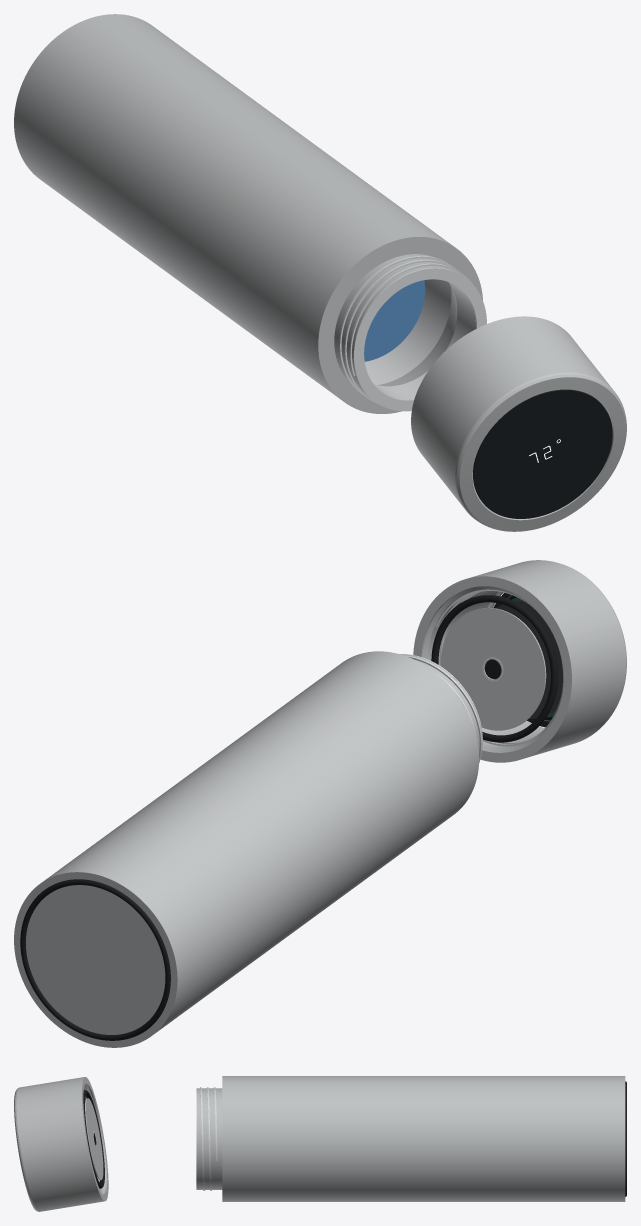
The model's file is AETHR_ONE_OPEN.glb.
The picture shows the model from 3 angles, top to bottom: view 1: azimuth 30°, elevation 25°; view 2: azimuth 150°, elevation 25°; view 3: azimuth 270°, elevation 25°; orthographic projection. The views are drawn at different scales.
Parts seen in each view (by area): view 1: Outer_Shell, Crown_Shell, Crown_Glass, Inner_Vessel, Body_Shoulder, Mouth_Lip, Liquid_Volume, Neck_Sleeve, External_Thread; view 2: Outer_Shell, Bottom_Plate, Crown_Shell, AETHR_Sense_Plate, AntiSlip_Ring, Seal, Charging_Ferrite; view 3: Outer_Shell, Crown_Shell, Neck_Sleeve, AETHR_Sense_Plate, External_Thread, Seal, Bottom_Plate, Body_Shoulder, AntiSlip_Ring.
Boxes of the visible parts, x1=… form: Outer_Shell: x1=15, y1=15, x2=452, y2=398; Crown_Shell: x1=411, y1=316, x2=626, y2=531; Crown_Glass: x1=473, y1=389, x2=612, y2=518; Inner_Vessel: x1=364, y1=279, x2=475, y2=399; Body_Shoulder: x1=317, y1=236, x2=482, y2=413; Mouth_Lip: x1=353, y1=268, x2=486, y2=411; Liquid_Volume: x1=364, y1=280, x2=425, y2=361; Neck_Sleeve: x1=334, y1=254, x2=460, y2=397; External_Thread: x1=339, y1=256, x2=473, y2=404; Outer_Shell: x1=44, y1=652, x2=478, y2=1033; Bottom_Plate: x1=14, y1=871, x2=178, y2=1047; Crown_Shell: x1=413, y1=560, x2=626, y2=762; AETHR_Sense_Plate: x1=440, y1=607, x2=546, y2=730; AntiSlip_Ring: x1=20, y1=879, x2=170, y2=1040; Seal: x1=431, y1=595, x2=557, y2=742; Charging_Ferrite: x1=496, y1=601, x2=562, y2=718; Outer_Shell: x1=223, y1=1076, x2=623, y2=1201; Crown_Shell: x1=14, y1=1077, x2=108, y2=1211; Neck_Sleeve: x1=197, y1=1088, x2=222, y2=1189; AETHR_Sense_Plate: x1=85, y1=1098, x2=103, y2=1180; External_Thread: x1=200, y1=1087, x2=217, y2=1190; Seal: x1=83, y1=1090, x2=104, y2=1188; Bottom_Plate: x1=623, y1=1076, x2=625, y2=1201; Body_Shoulder: x1=222, y1=1076, x2=223, y2=1201; AntiSlip_Ring: x1=625, y1=1081, x2=626, y2=1196.
Size of the model in its own units: 0.0784 by 0.0834 by 0.3695.
